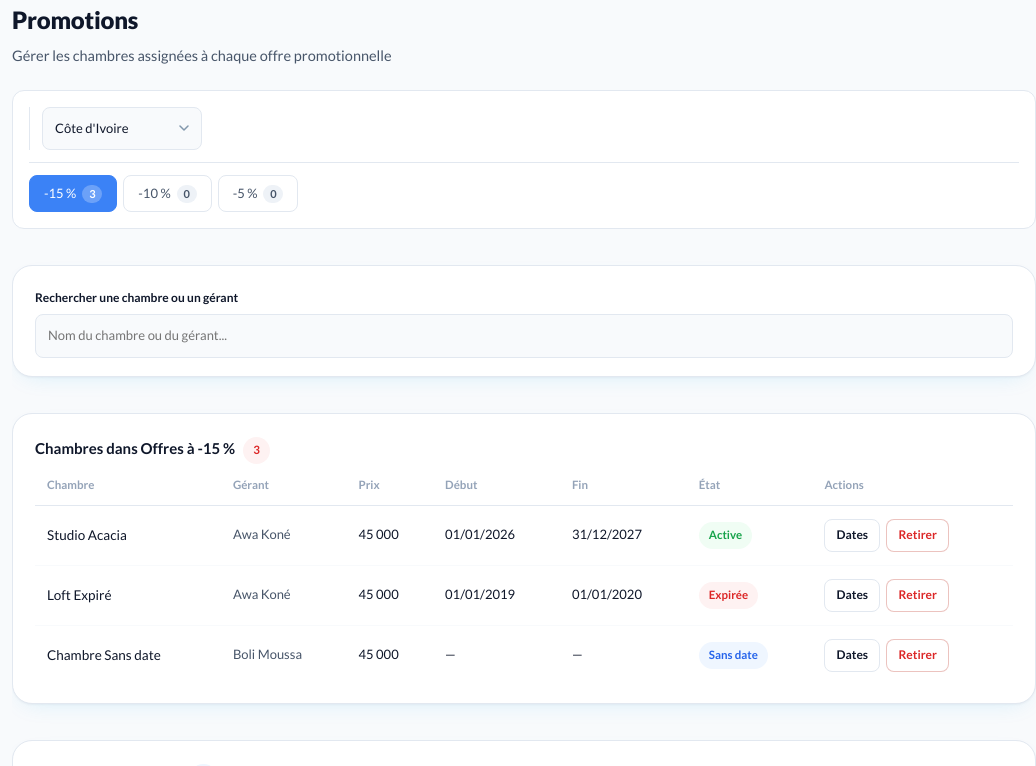
AdminPromotionsPage › filtre aussi par nom de gérant
Type "BOLI" into the field with placeholder "Nom du chambre ou du gérant..." at (524, 336), box [35,314,1013,358]
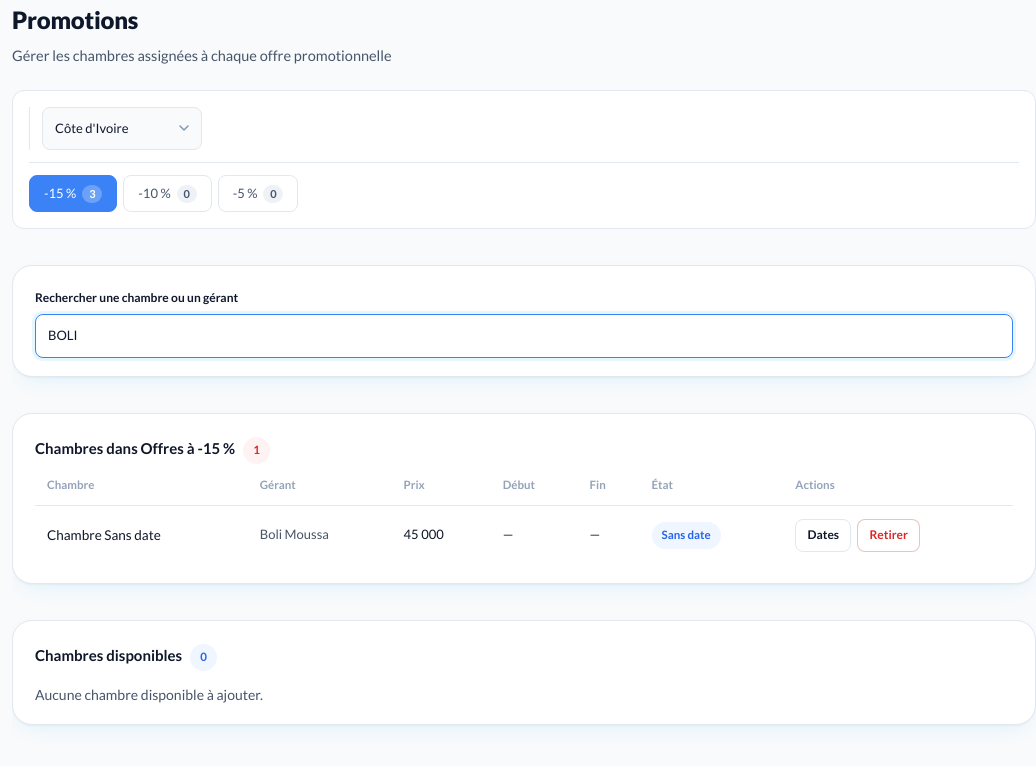
Expected: the text "Chambre Sans date" is shown, [35,505,248,564]
Result: the text "Studio Acacia" is gone
